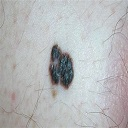Melanoma: (46, 43, 78, 90)
